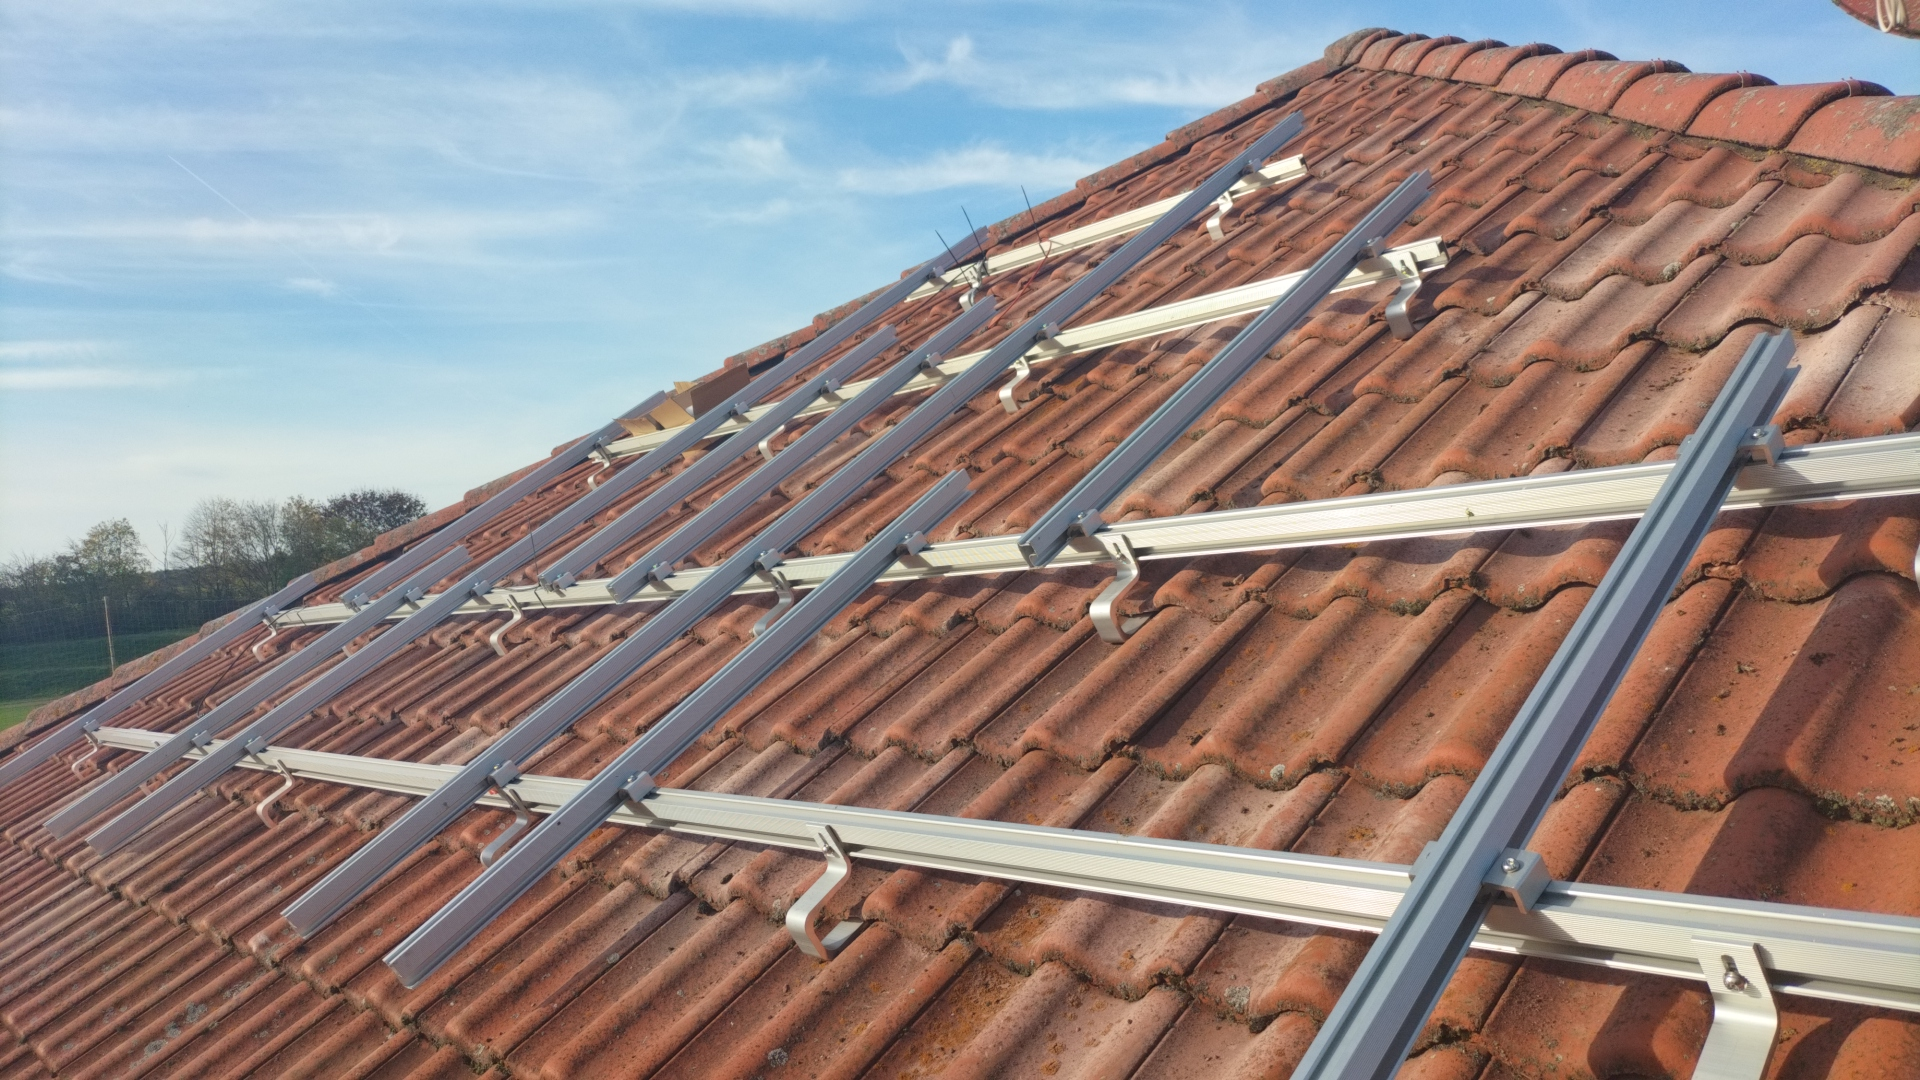hook: (1691, 935, 1780, 1080), (785, 823, 866, 961), (1089, 535, 1154, 644), (1385, 251, 1433, 339), (480, 789, 531, 866), (752, 571, 795, 637), (256, 760, 295, 829), (489, 593, 524, 655), (1000, 353, 1031, 413), (71, 733, 102, 781), (1207, 190, 1234, 241), (959, 266, 984, 313), (252, 618, 277, 663), (587, 447, 611, 491), (758, 425, 785, 460), (1913, 542, 1920, 589), (138, 781, 153, 795), (342, 644, 357, 657)
